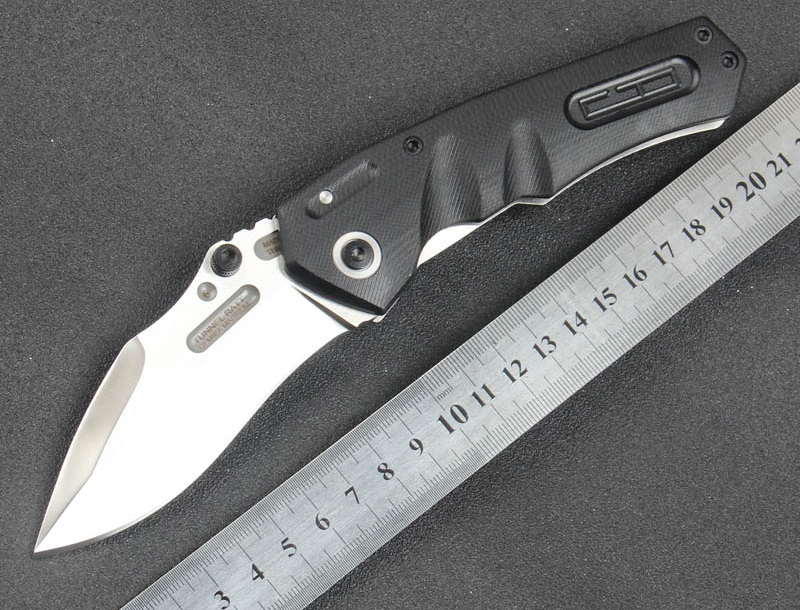knife: (24, 204, 366, 569)
